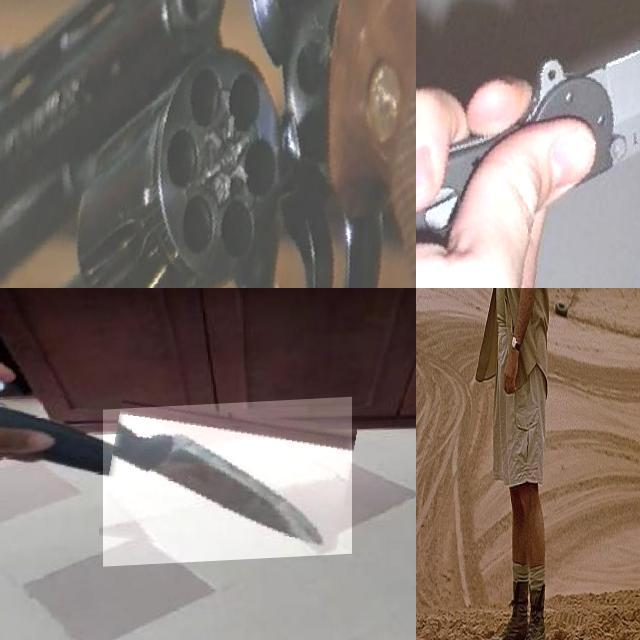-: (416, 0, 640, 288), (103, 401, 352, 568)
gun-knife-thesis - v11 Yolov5 augmented: (0, 0, 416, 288), (416, 288, 476, 449)
